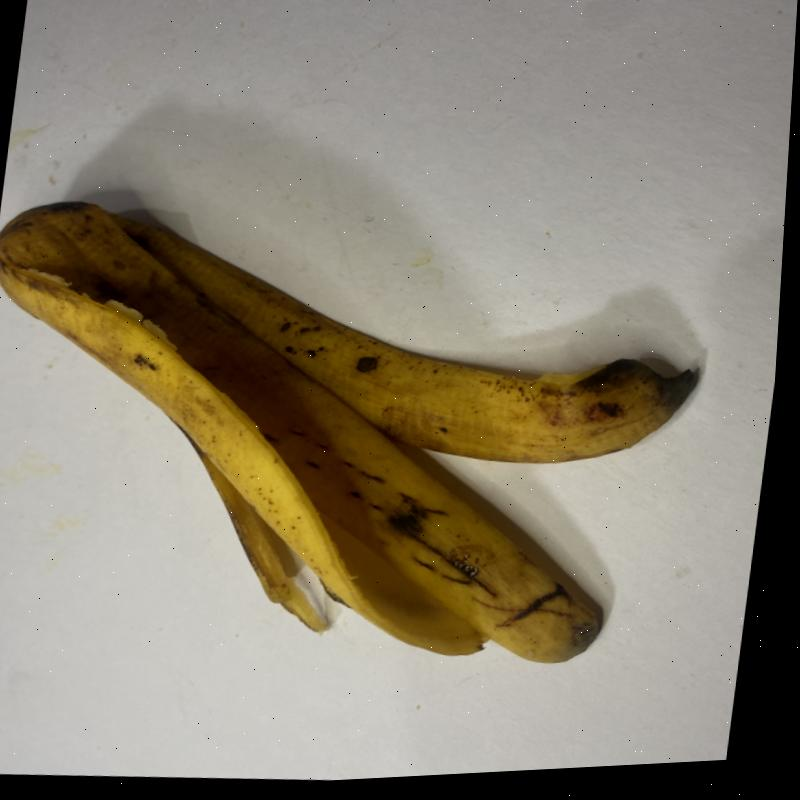fruit peels: (0, 201, 695, 666)
